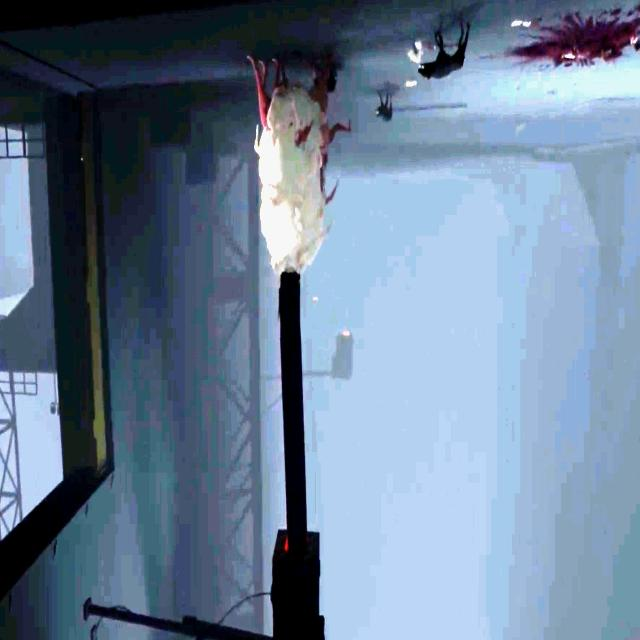blob: (245, 58, 352, 274)
dog: (417, 19, 470, 81), (376, 94, 393, 122)
interactible: (272, 532, 324, 640), (330, 330, 354, 381)
structure: (198, 117, 269, 640), (0, 370, 22, 546), (0, 127, 46, 161), (0, 371, 38, 398)
